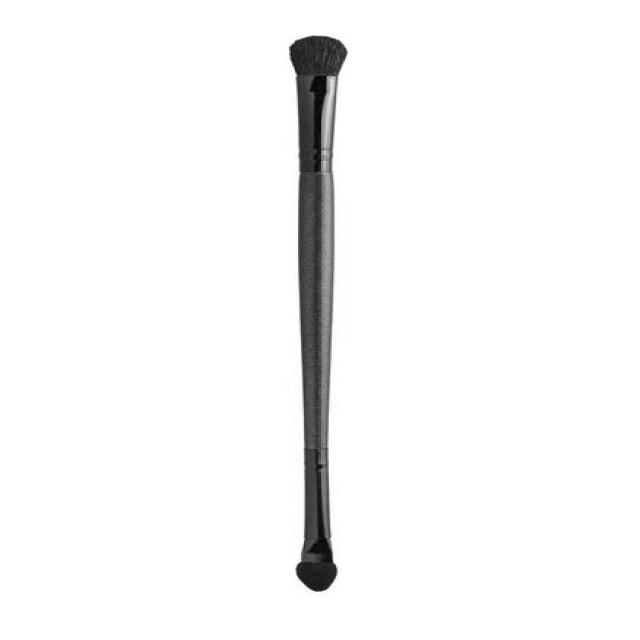Pole: (290, 35, 346, 593)
